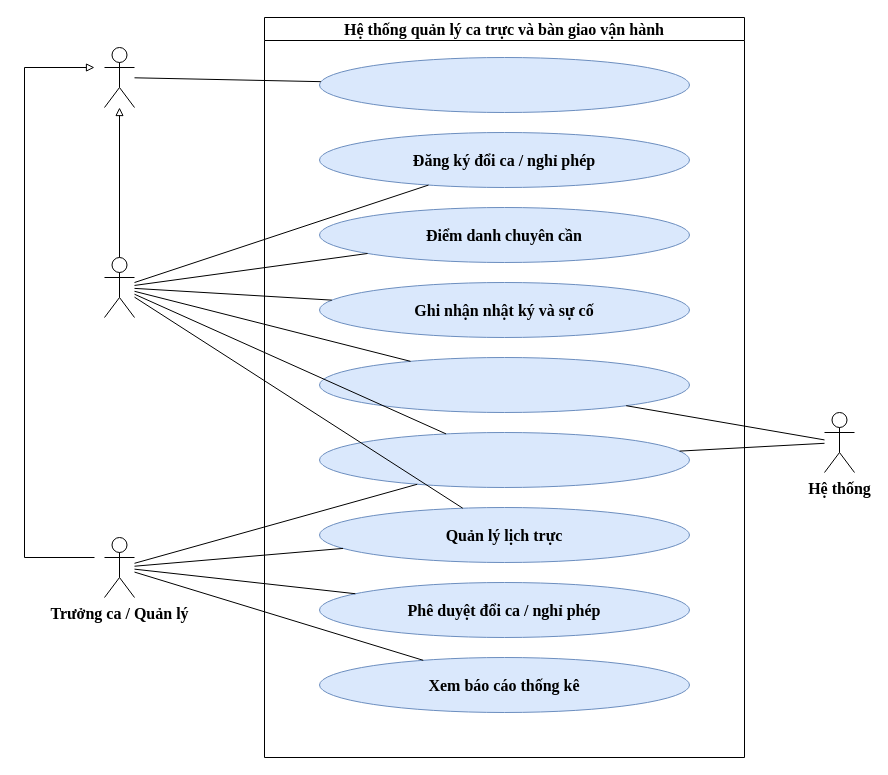
Image size: 888x775. Some labels were removed from this diagram. The shapes that lost their labels are listed below. From the top down, each one's centre as x and y in pixels, then its label:
At pixel 119 77: "Nhân viên".
At pixel 504 84: "Đăng nhập".
At pixel 119 287: "Nhân viên trực".
At pixel 504 384: "Lập và bàn giao ca".
At pixel 504 460: "Xác nhận bàn giao ca".
